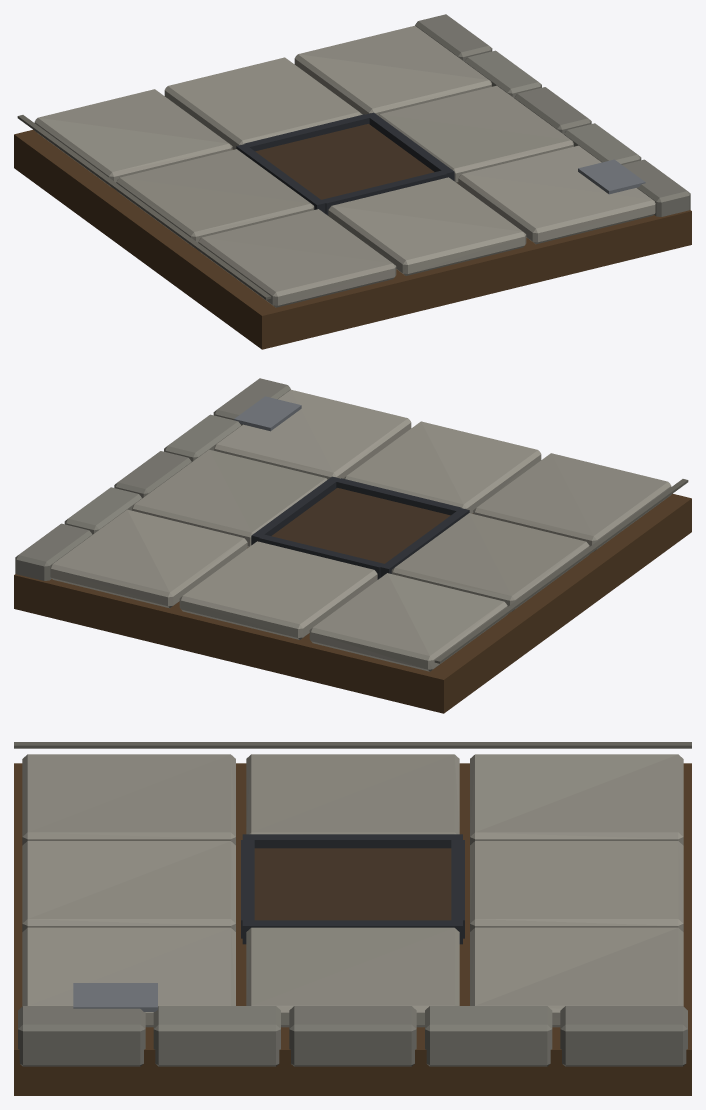
The model's file is sidewalk-01.glb.
The picture shows the model from 3 angles, top to bottom: view 1: azimuth 30°, elevation 25°; view 2: azimuth 150°, elevation 25°; view 3: azimuth 270°, elevation 25°; orthographic projection. The views are drawn at different scales.
Visible parts, largest first — view 1: sidewalk_01; view 2: sidewalk_01; view 3: sidewalk_01.
Boxes of the visible parts, x1=… form: sidewalk_01: x1=14, y1=14, x2=691, y2=349; sidewalk_01: x1=14, y1=378, x2=691, y2=713; sidewalk_01: x1=14, y1=742, x2=691, y2=1095.
Size of the model in its own units: 4.02 by 0.4699 by 4.
